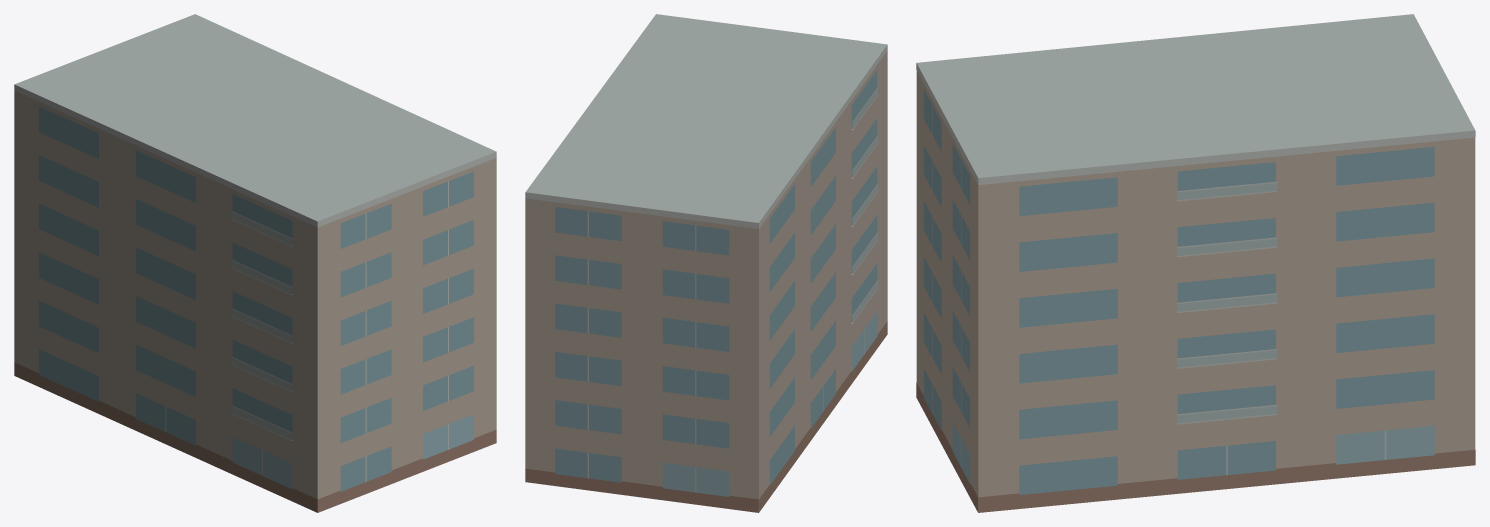
File: survey-upis-32967825.glb
The picture shows the model from 3 angles, left to right: view 1: azimuth 30°, elevation 25°; view 2: azimuth 150°, elevation 25°; view 3: azimuth 270°, elevation 25°; orthographic projection. The views are drawn at different scales.
Visible parts, largest first — view 1: survey-upis-32967825.tmp; view 2: survey-upis-32967825.tmp; view 3: survey-upis-32967825.tmp.
Part boxes in pixels (x1=…): survey-upis-32967825.tmp: x1=14, y1=14, x2=496, y2=512; survey-upis-32967825.tmp: x1=525, y1=14, x2=887, y2=512; survey-upis-32967825.tmp: x1=916, y1=14, x2=1475, y2=512.
Size of the model in its own units: 12.32 by 11.7 by 17.72.
